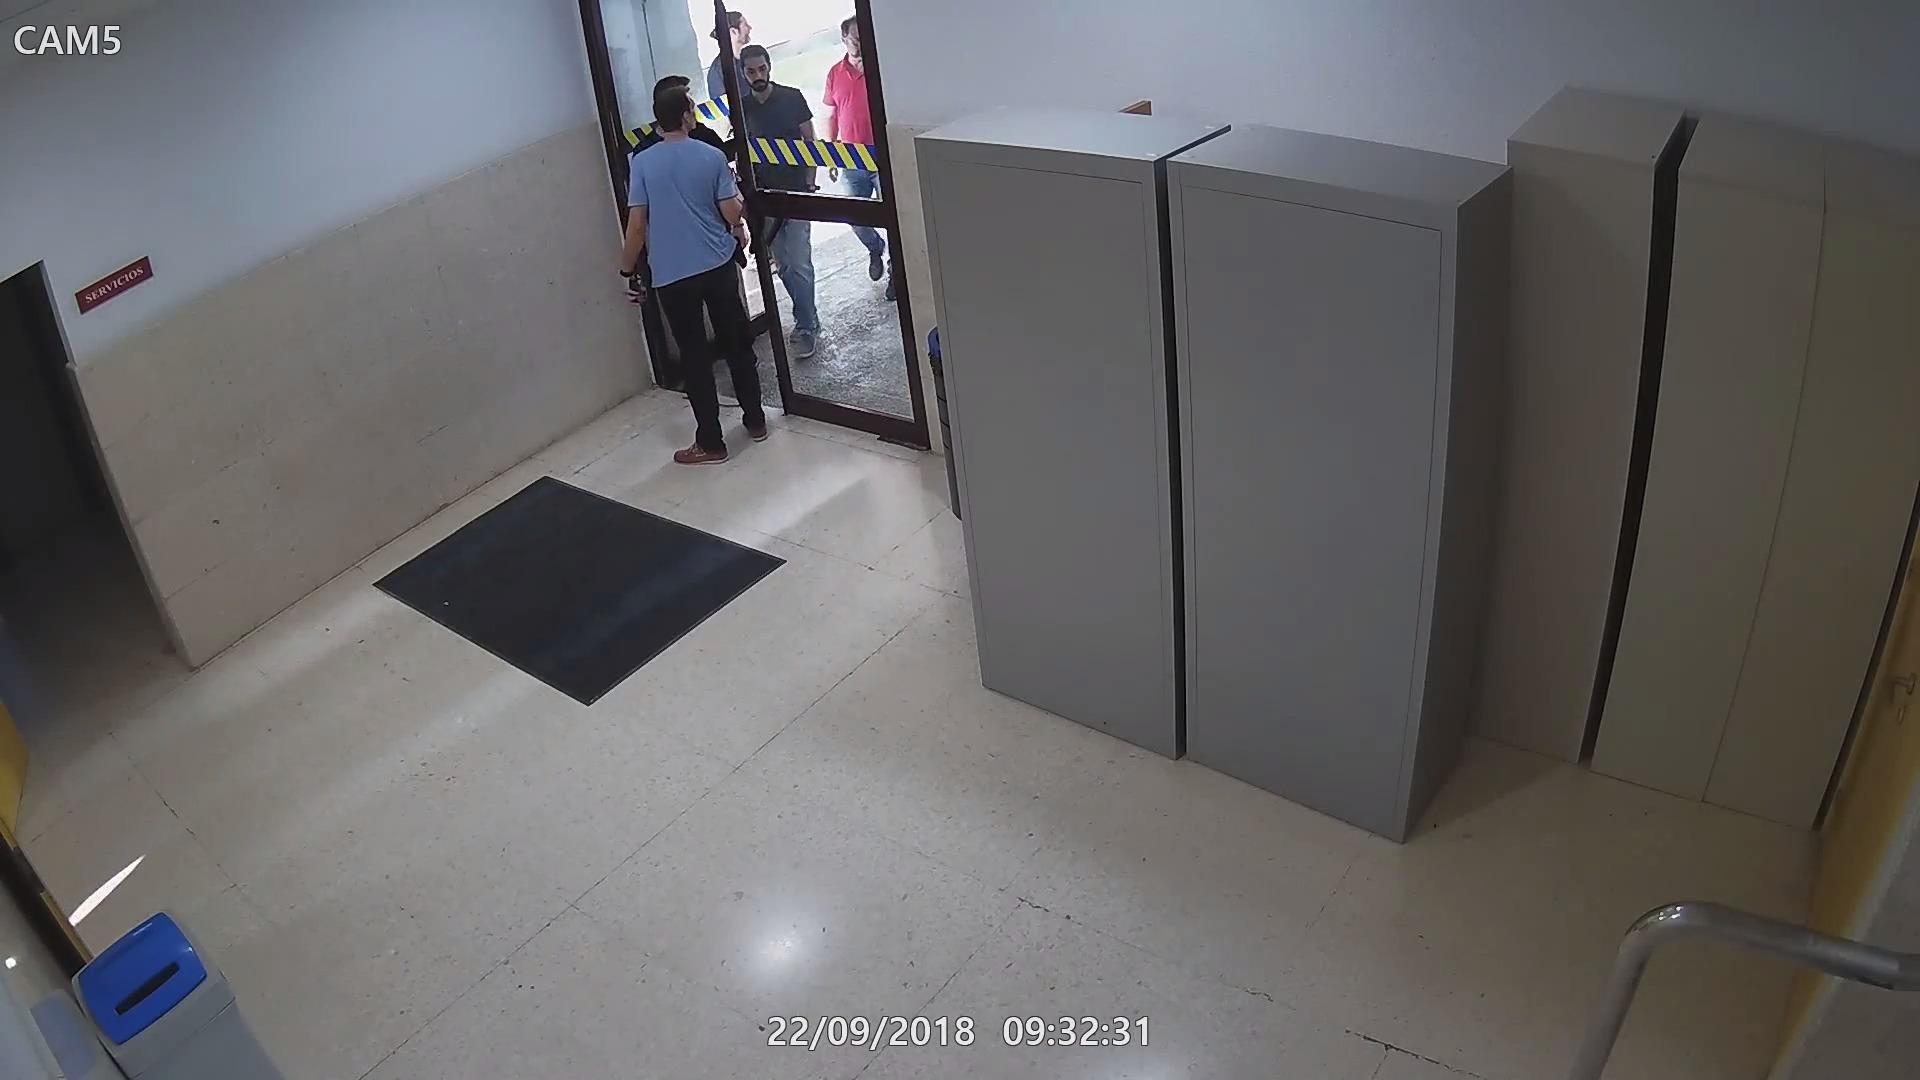Handgun: (618, 268, 655, 316)
